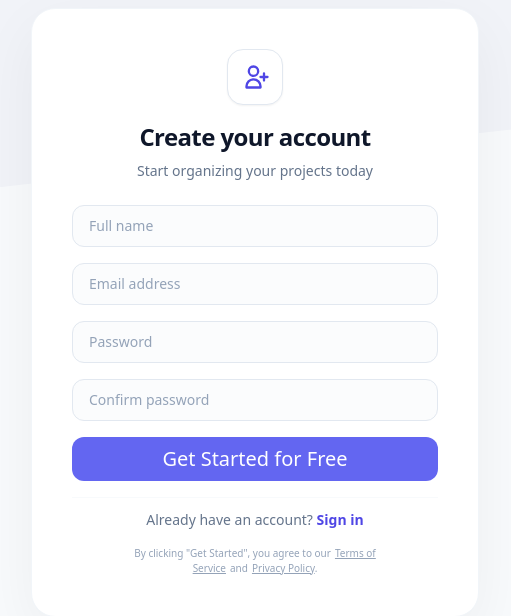
Scenario: shows error when passwords do not match
Step 1. Type "Password123" into the password field labelled "Password" → coordinates (255, 342), box [72,320,438,362]
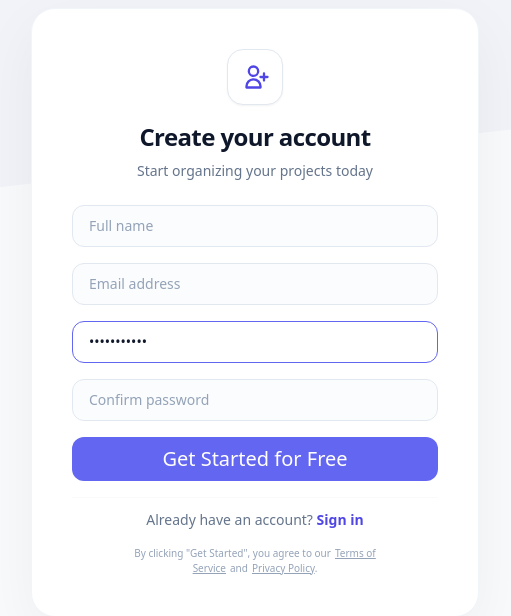
Step 2. Type "DifferentPassword" into the password field labelled "Confirm password" → coordinates (255, 400), box [72,378,438,420]
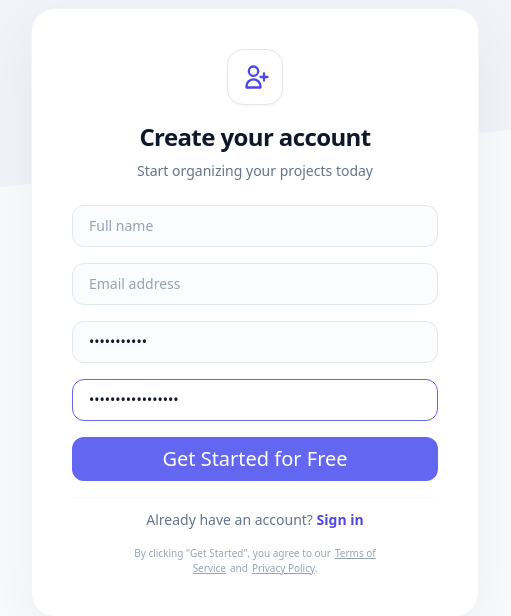
Step 3. Click the button "Get Started for Free" → coordinates (255, 458), box [72,436,438,480]
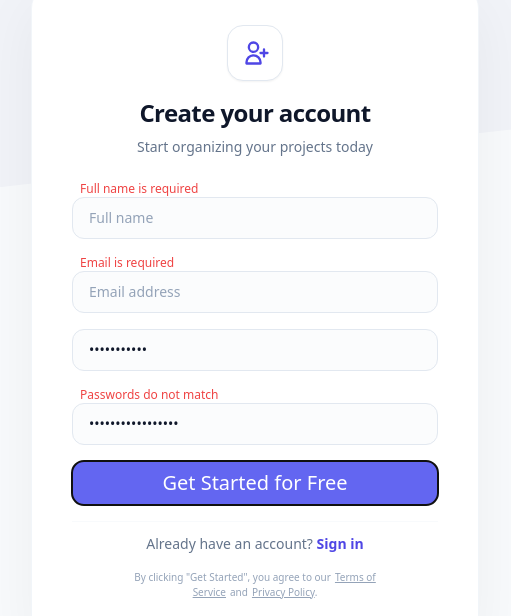
Expected: the text "Passwords do not match" is shown, [80,386,218,402]
